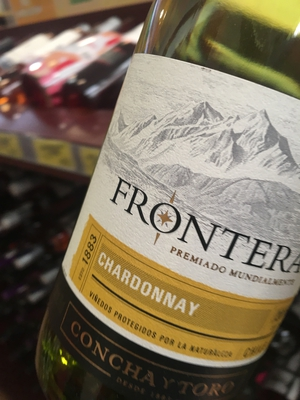frontera chardonnay: (53, 24, 300, 398)
